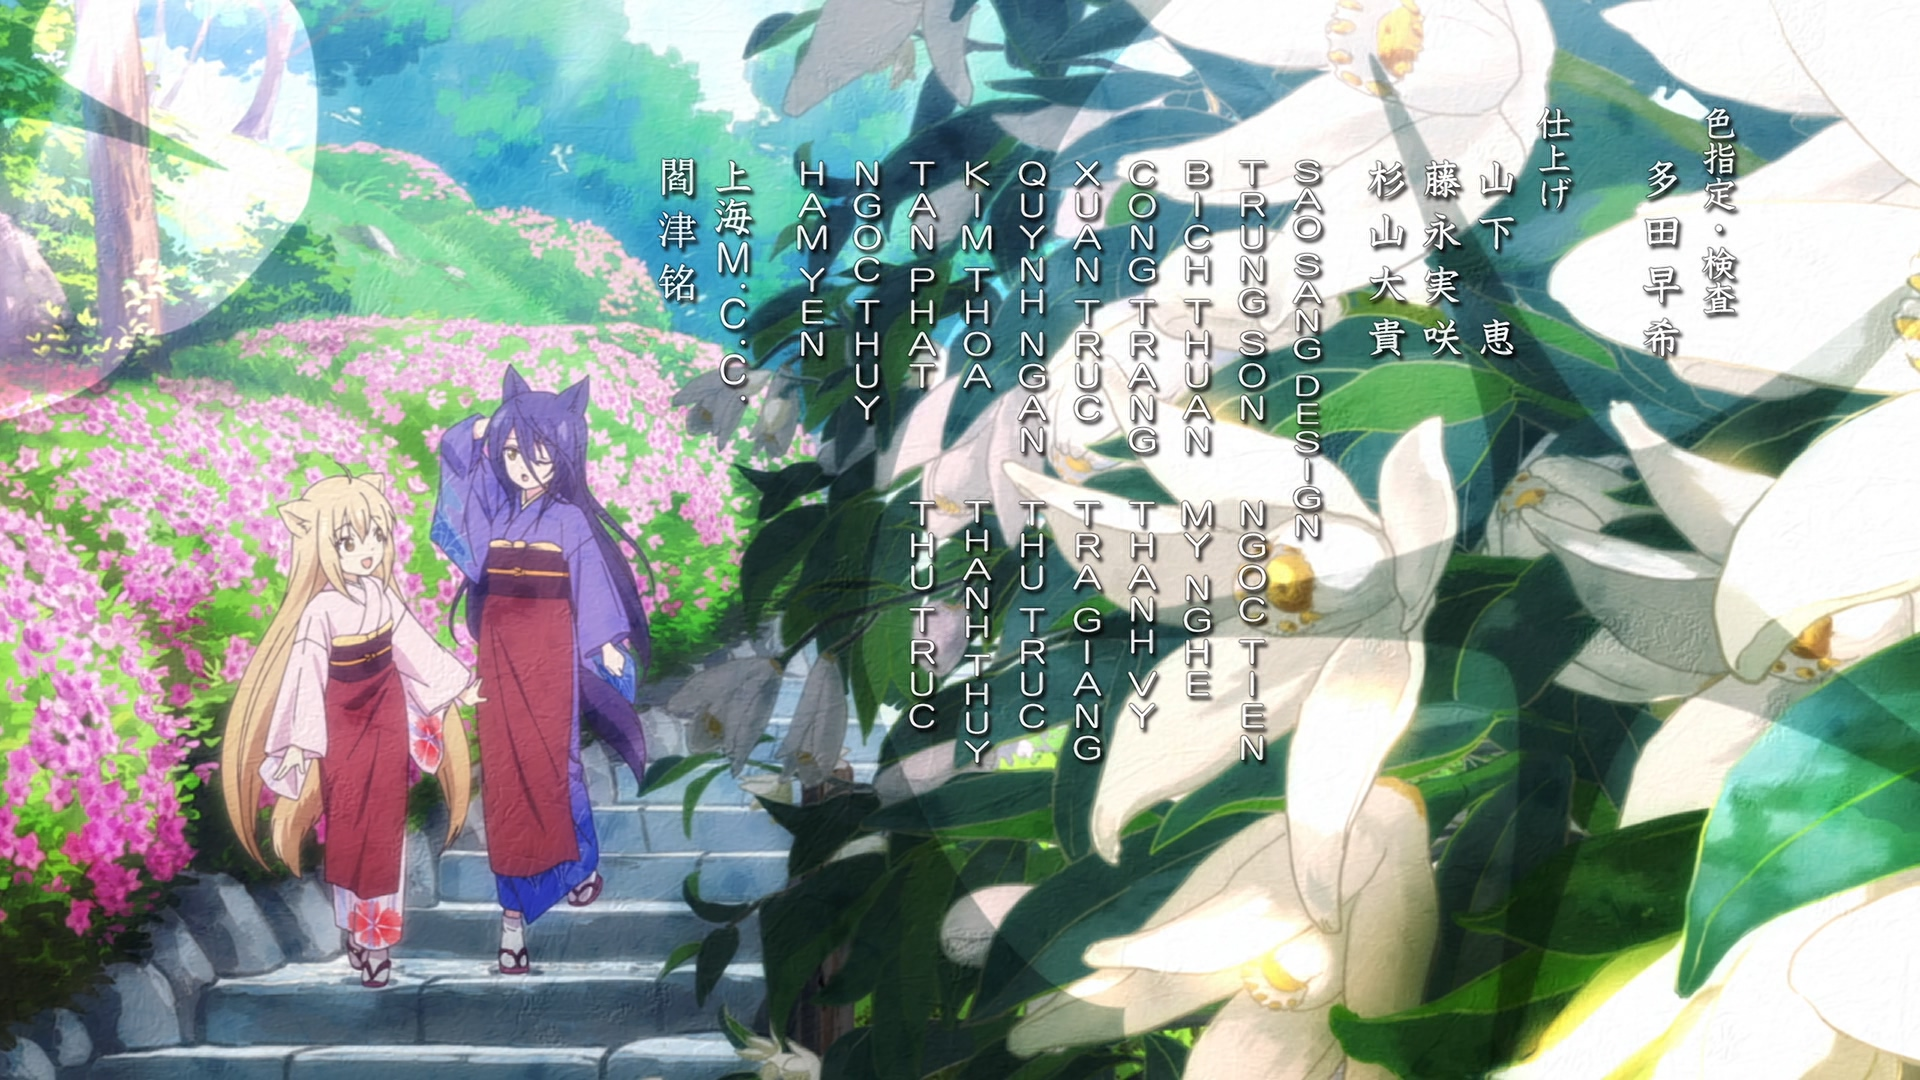柚: (220, 459, 487, 986)
皋: (433, 363, 655, 971)
